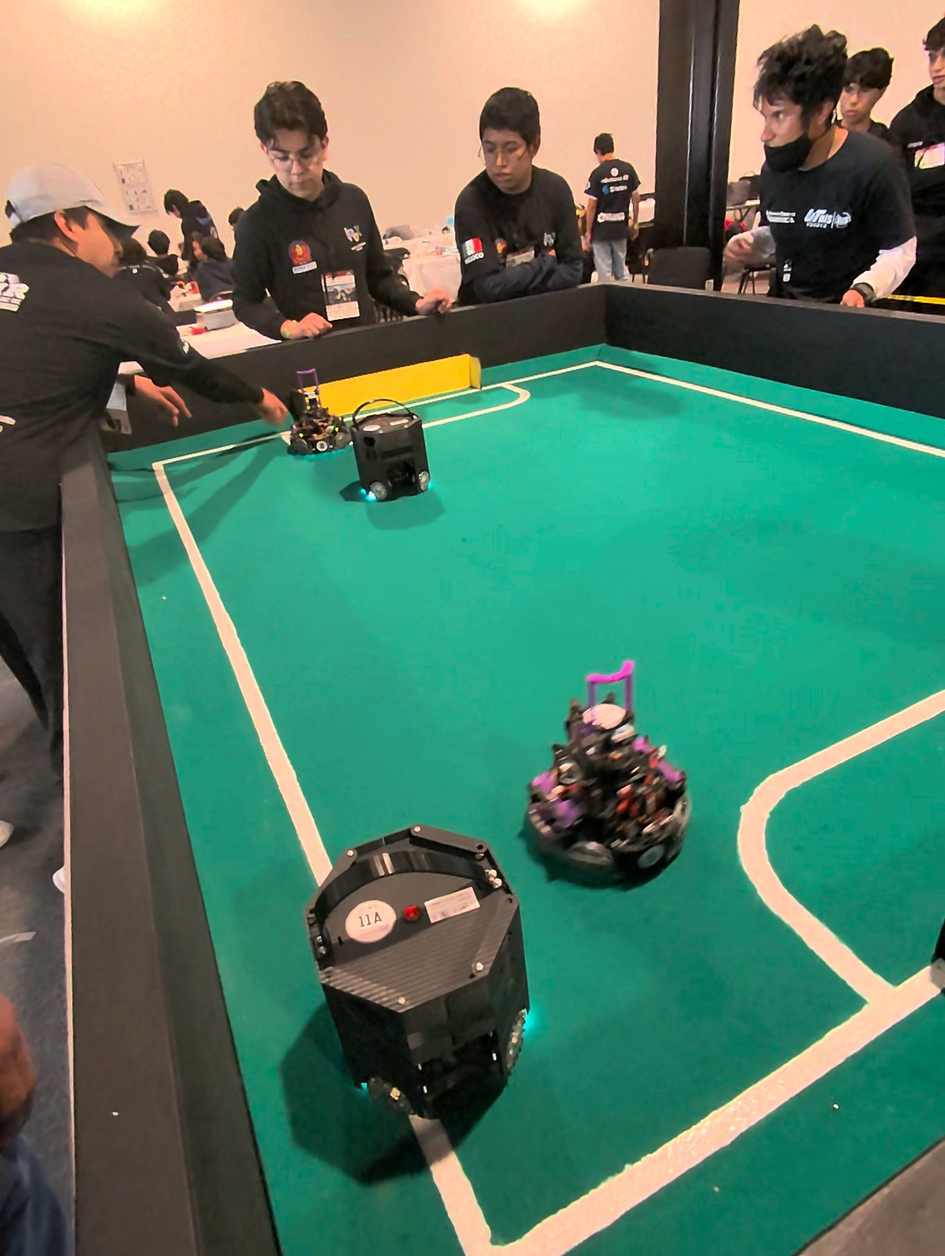Robot: (292, 815, 534, 1179), (530, 692, 696, 899), (351, 424, 448, 522), (284, 371, 346, 460)
